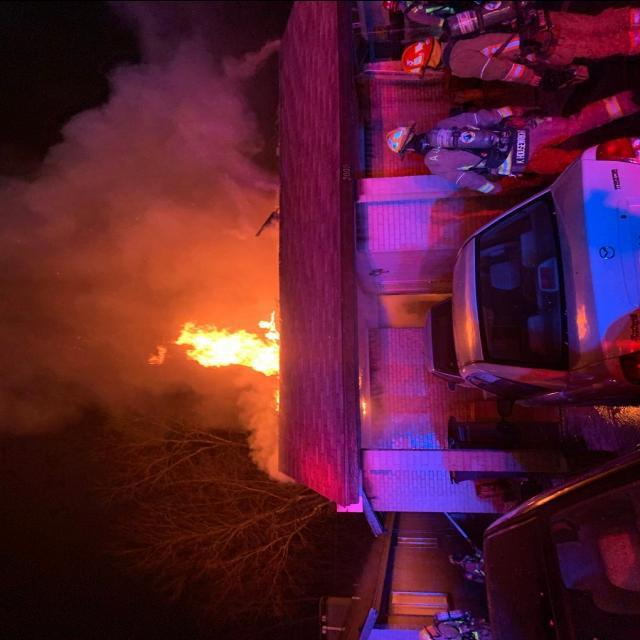Fire: (144, 310, 282, 409)
